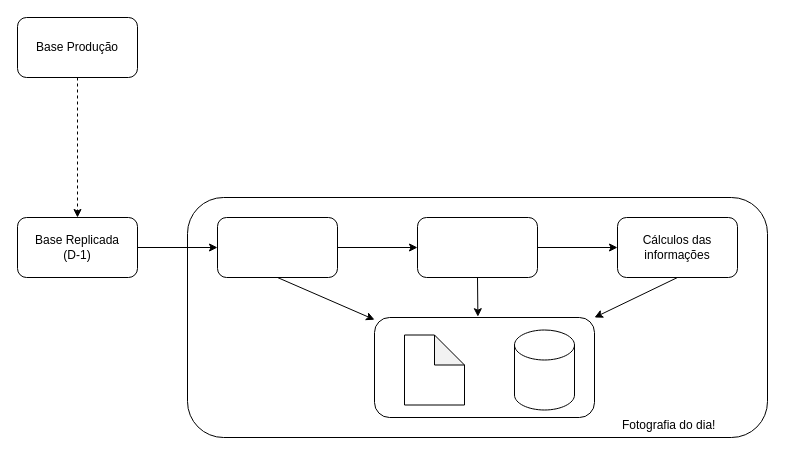
This 785x455 diagram has some shape labels left out. The shapes that lost their labels are listed below. From the top down, each one's centre as x and y in pixels, then its label:
point 277,247: Carga dos dados de referência (snapshot)
point 477,247: Carga dos registros transacionais (snapshot)
